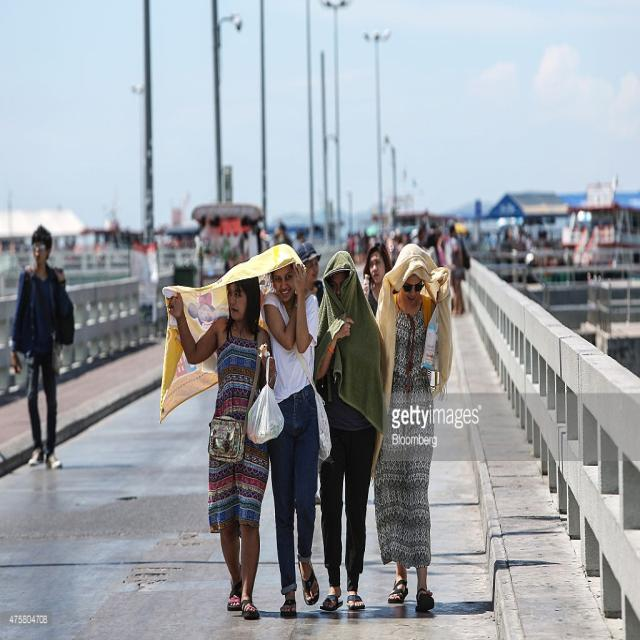body: (165, 261, 277, 624), (371, 240, 455, 617), (311, 248, 388, 622), (258, 235, 322, 620), (7, 223, 80, 474), (88, 215, 552, 248), (361, 240, 394, 318), (435, 244, 470, 316), (296, 240, 324, 310)
